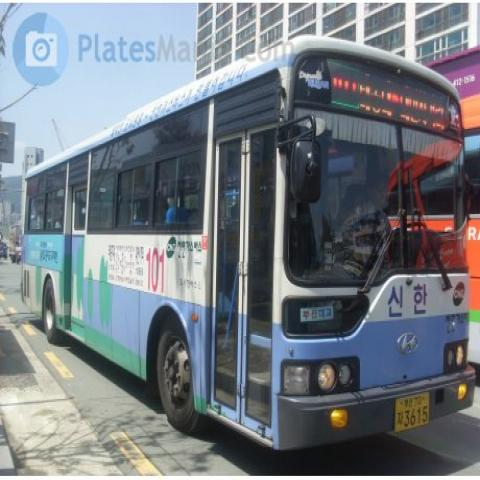LP: (391, 390, 433, 438)
